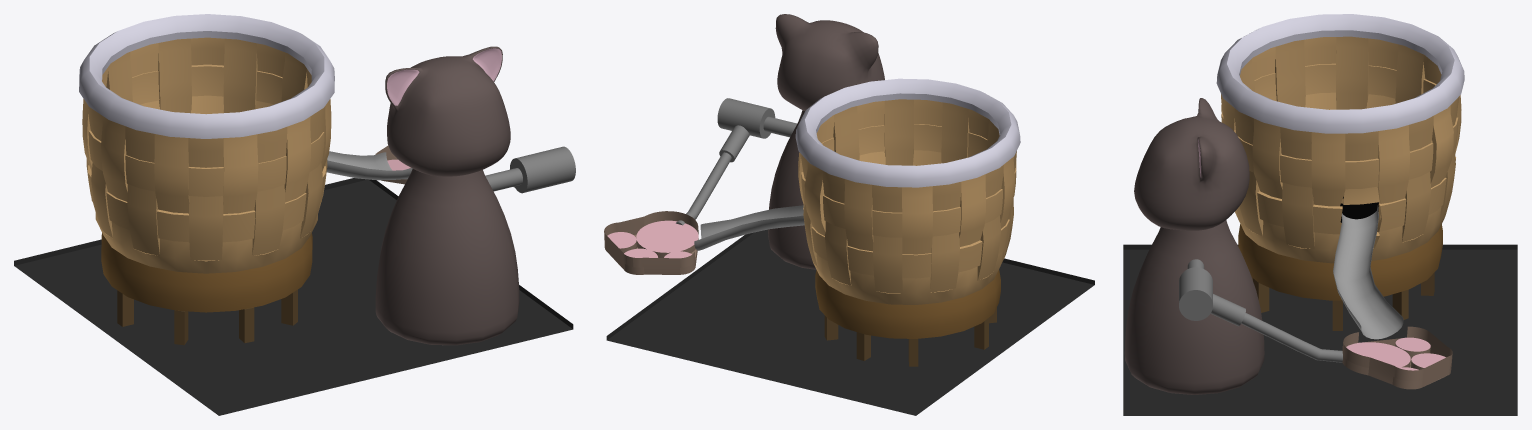
Rendered from THe paw-A-Pult T.fbx.
3 renders of one model, left to right at view 1: azimuth 30°, elevation 25°; view 2: azimuth 150°, elevation 25°; view 3: azimuth 270°, elevation 25°, orthographic. The views are drawn at different scales.
Visible parts, largest first — view 1: Basket and ramp, Body edits; view 2: Basket and ramp, Body edits; view 3: Basket and ramp, Body edits.
Boxes of the visible parts, x1,y1,x2,y2 form: Basket and ramp: [14, 14, 573, 415]; Body edits: [375, 46, 575, 345]; Basket and ramp: [606, 78, 1094, 415]; Body edits: [604, 14, 884, 274]; Basket and ramp: [1123, 14, 1517, 415]; Body edits: [1124, 98, 1452, 394].
Bounding box in the file's own units: 1064 × 635 × 896.
